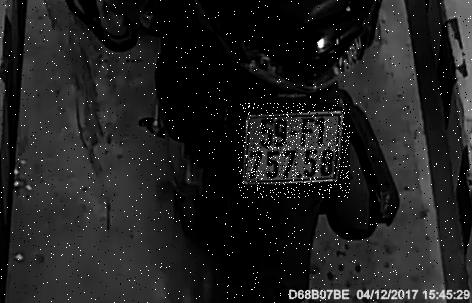License-plate: (239, 104, 351, 199)
